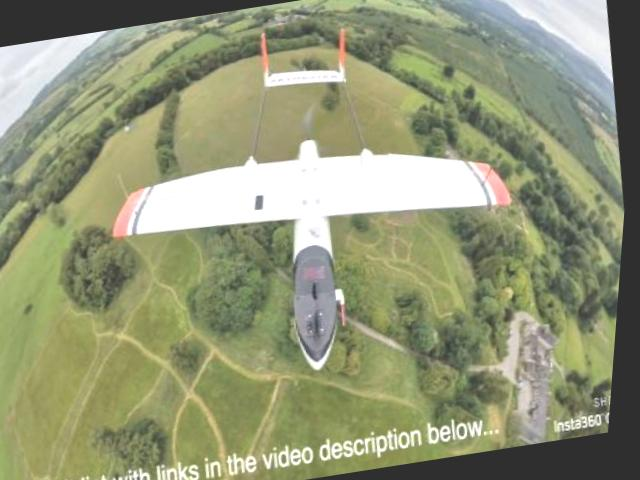uav: (67, 0, 559, 412)
